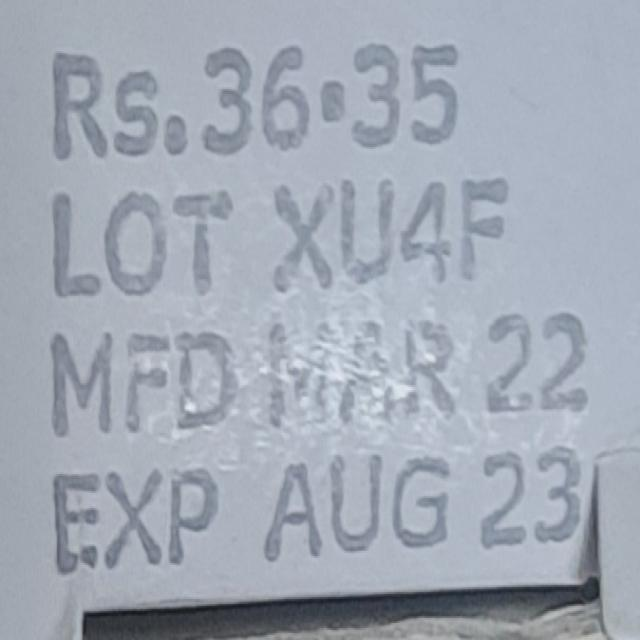sentence: (50, 310, 589, 443), (53, 446, 589, 576), (53, 178, 506, 299), (50, 32, 464, 163)
